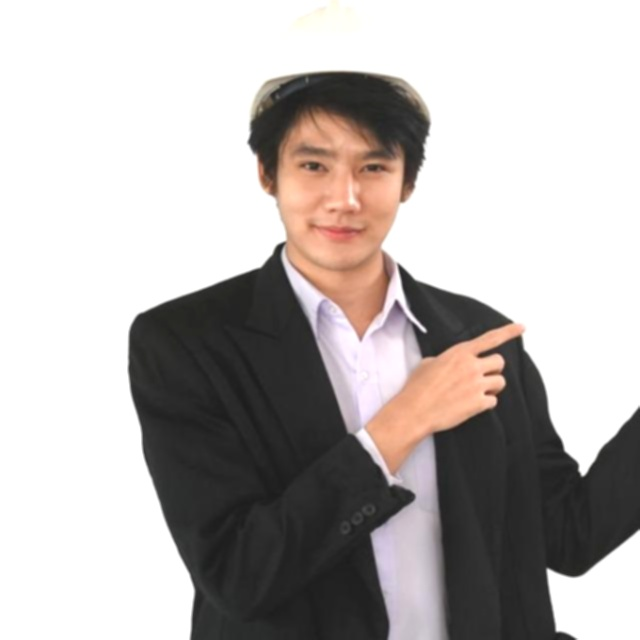Con_Casco: (241, 0, 434, 269)
Sin_Chaleco: (131, 273, 549, 640)
